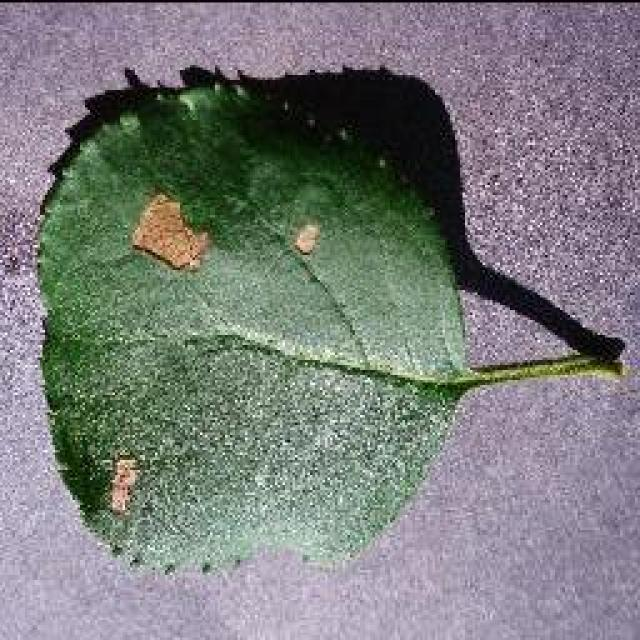apple black rot: (30, 60, 625, 578)
